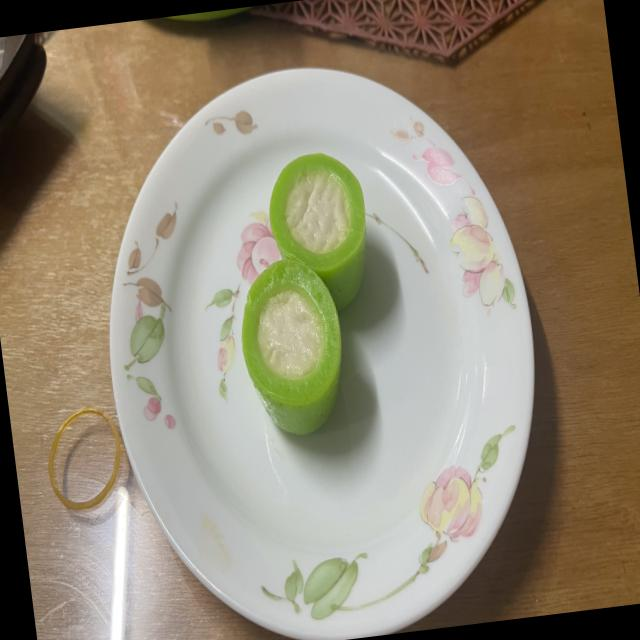nona-manis: (241, 259, 341, 434), (269, 152, 365, 309)
